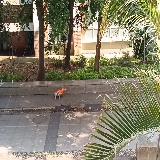fire: (56, 86, 66, 95)
